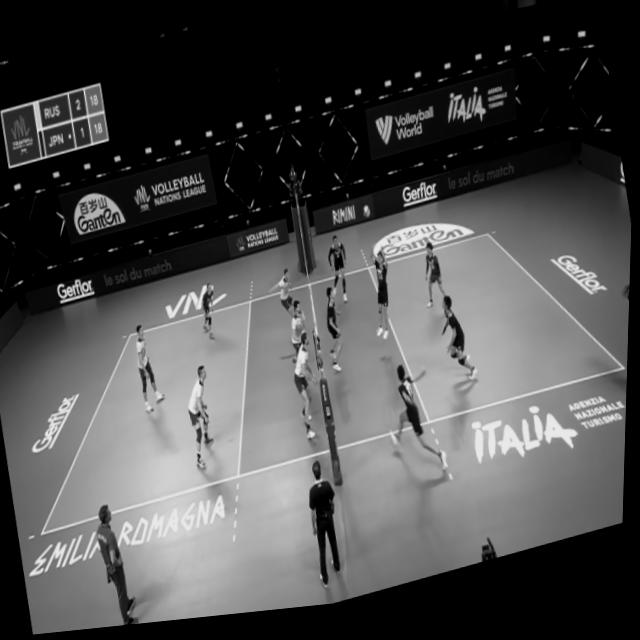player: (379, 361, 457, 495), (178, 359, 225, 481), (434, 296, 485, 398), (287, 337, 329, 451), (129, 322, 171, 421), (365, 248, 400, 354), (318, 288, 353, 386), (263, 271, 304, 330), (324, 238, 356, 312), (420, 250, 450, 316), (285, 305, 315, 371), (196, 283, 226, 348)
